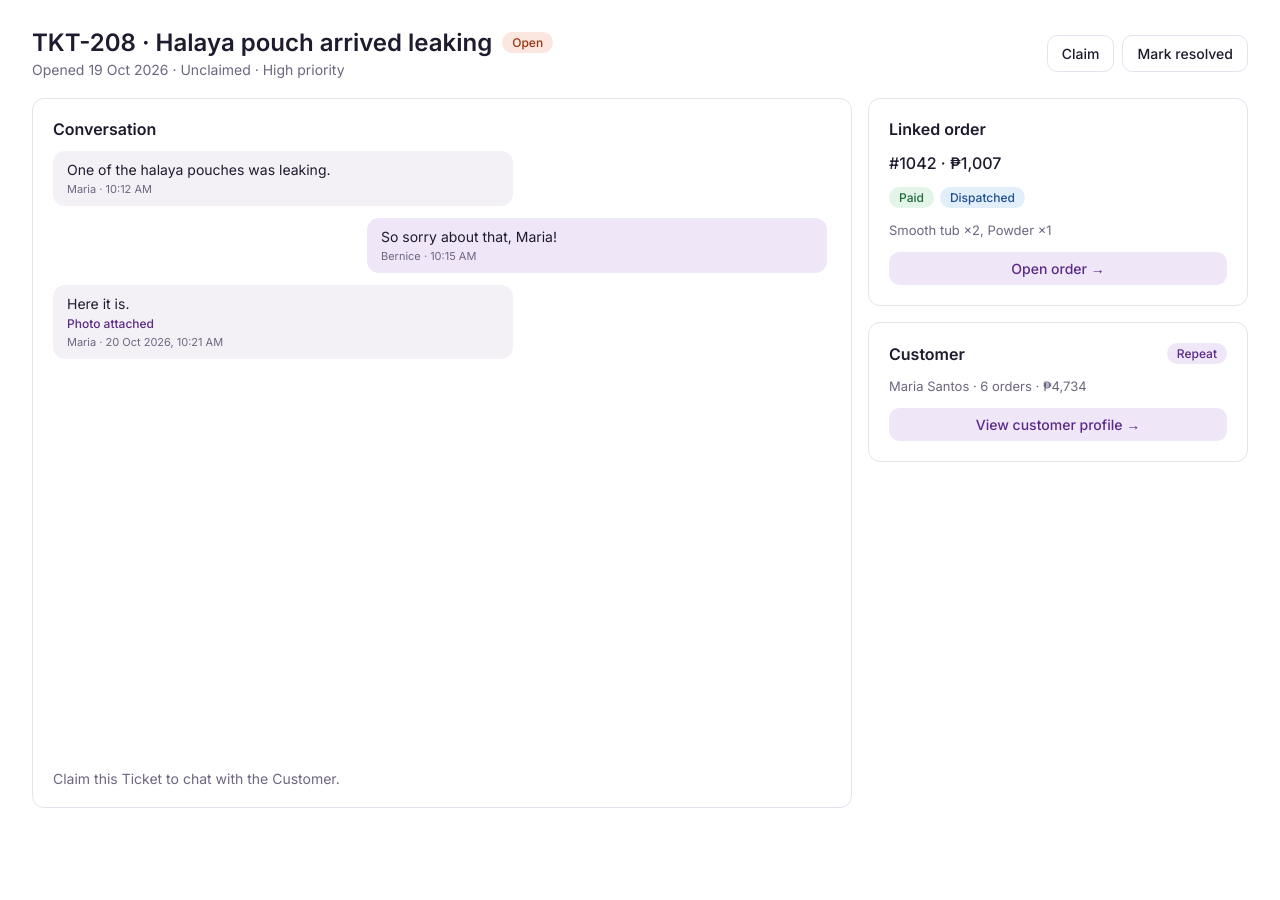
Claim and Release show at once › holds the buttons while the claim is pending, so it cannot be sent twice
The image size is (1280, 900).
Click the button "Claim": (1081, 53) top-left (1047, 34), bottom-right (1114, 72)
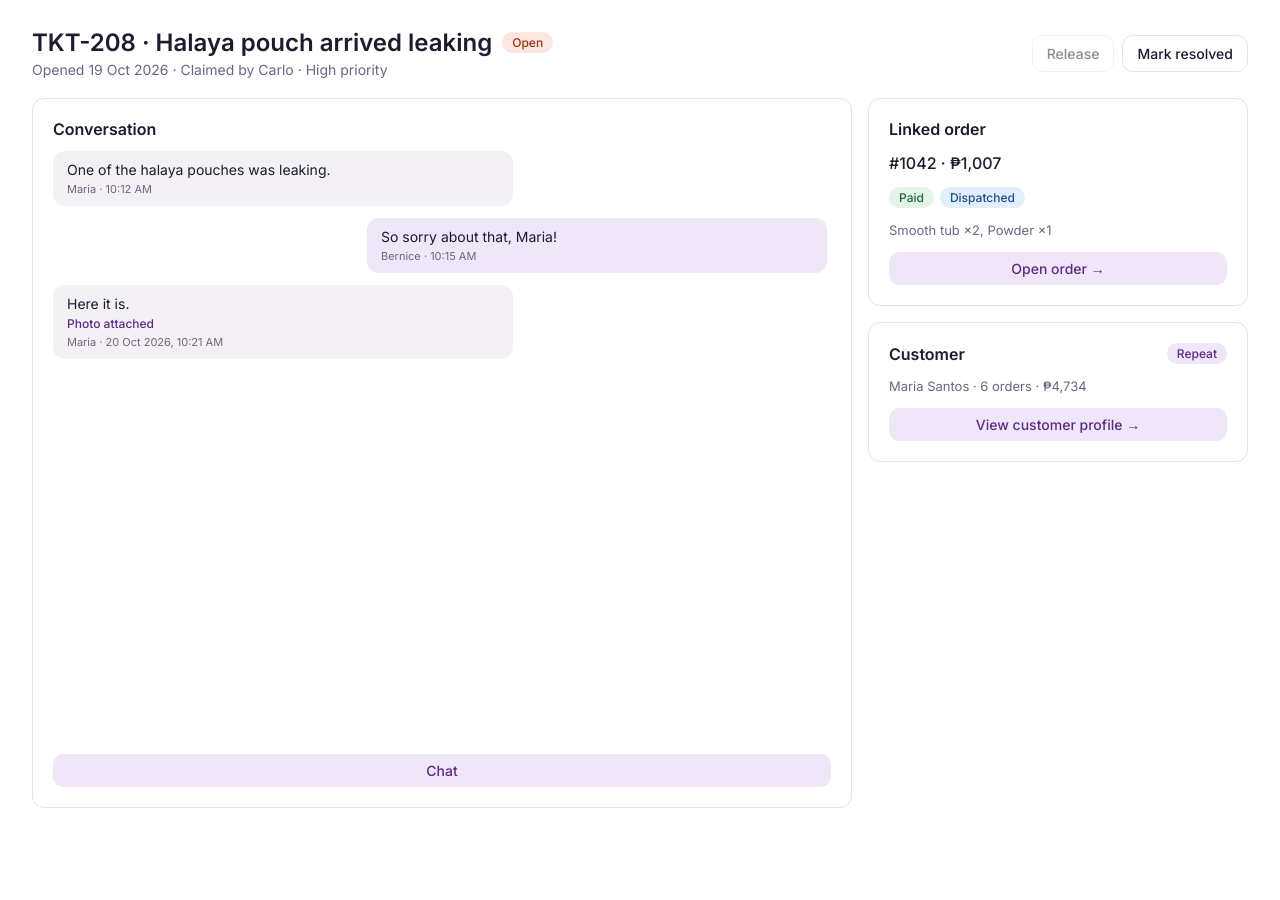
Now the button "Release" is disabled, box top-left (1032, 34), bottom-right (1114, 72)
